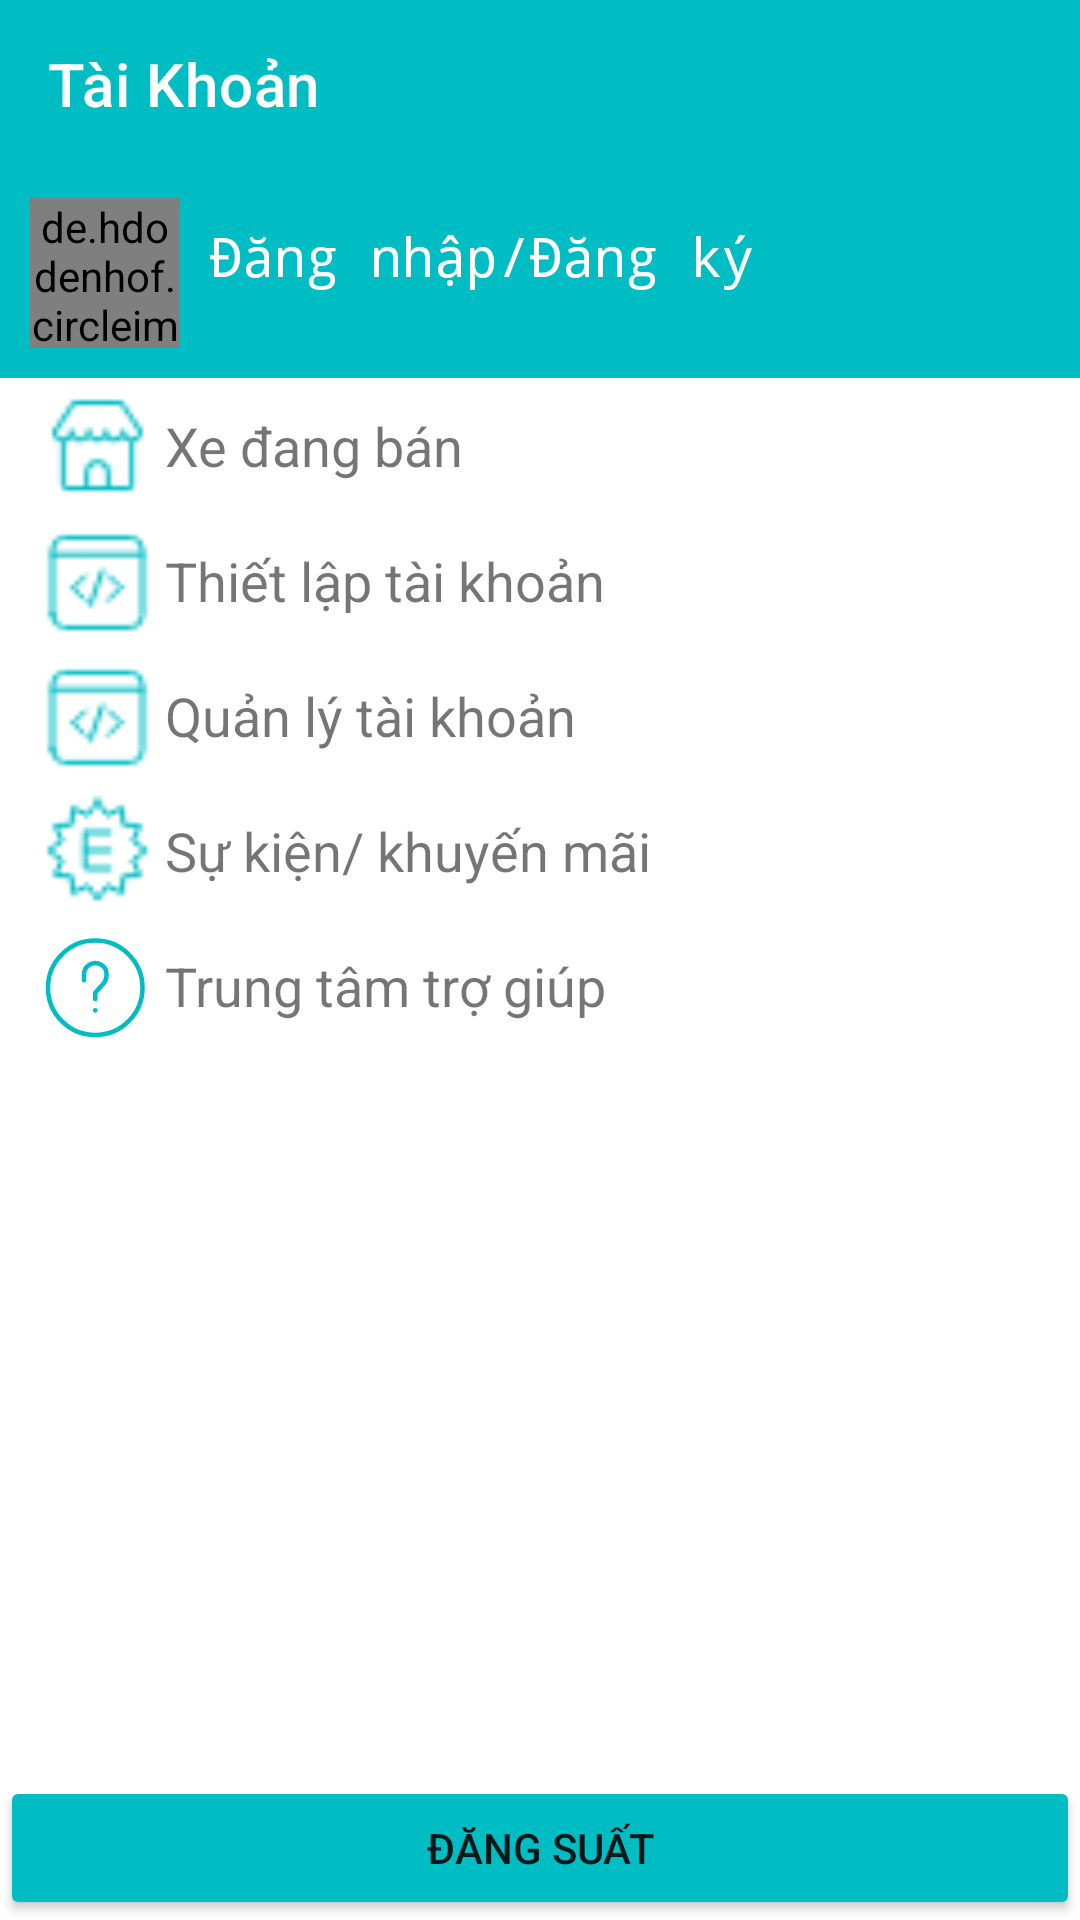

Icons on this 1080*1920 Android screen, each with the point to tap as (x,y):
event: (97,848)
faq: (95,988)
store: (97,445)
